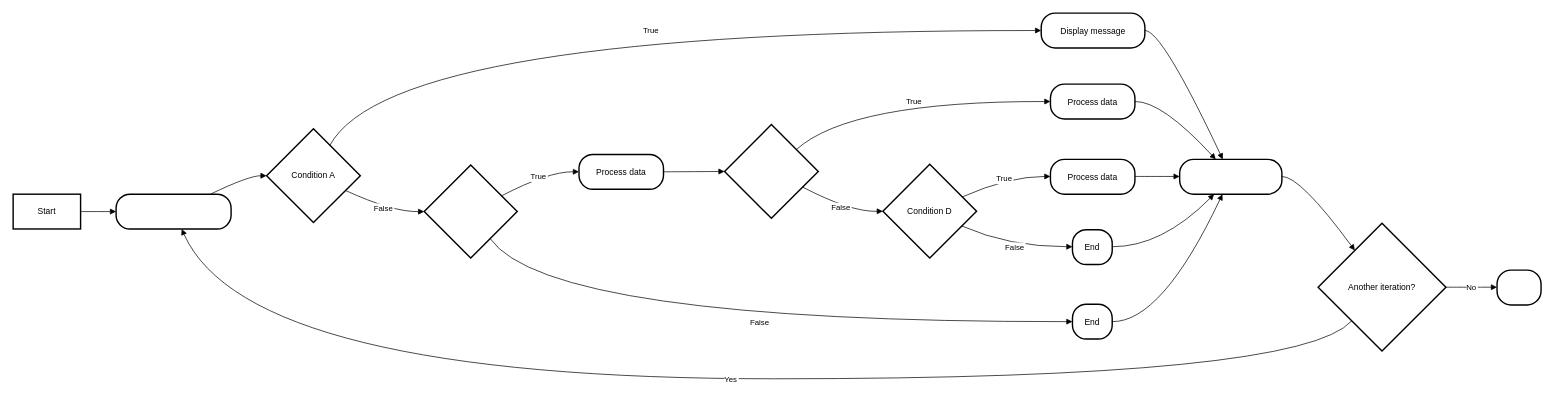
This 1553x395 diagram has some shape labels left out. Here are the shapes that lost their labels. From the top down, the centre of each, then its label:
At (x=771, y=171): "Condition C".
At (x=1230, y=176): "Final processing".
At (x=173, y=211): "Initialize variables".
At (x=470, y=211): "Condition B".
At (x=1518, y=287): "Stop".
